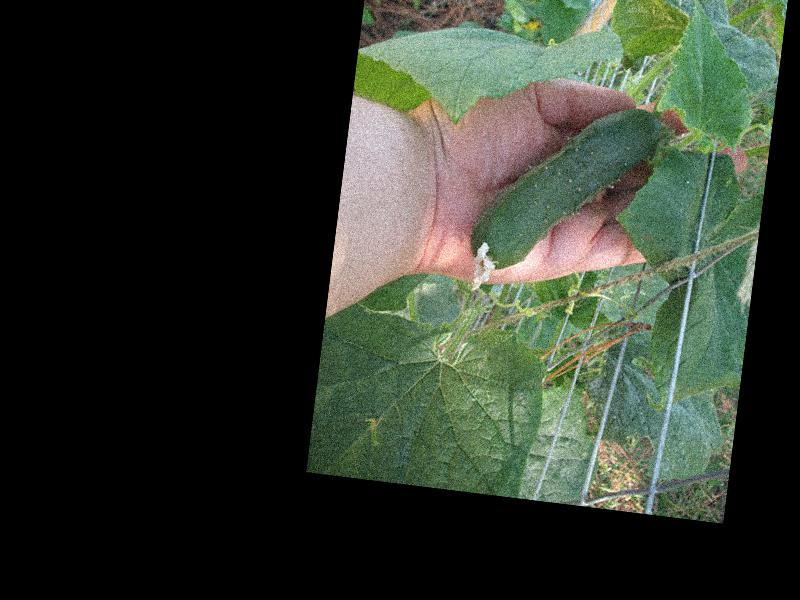Cucumber: (464, 92, 663, 312)
